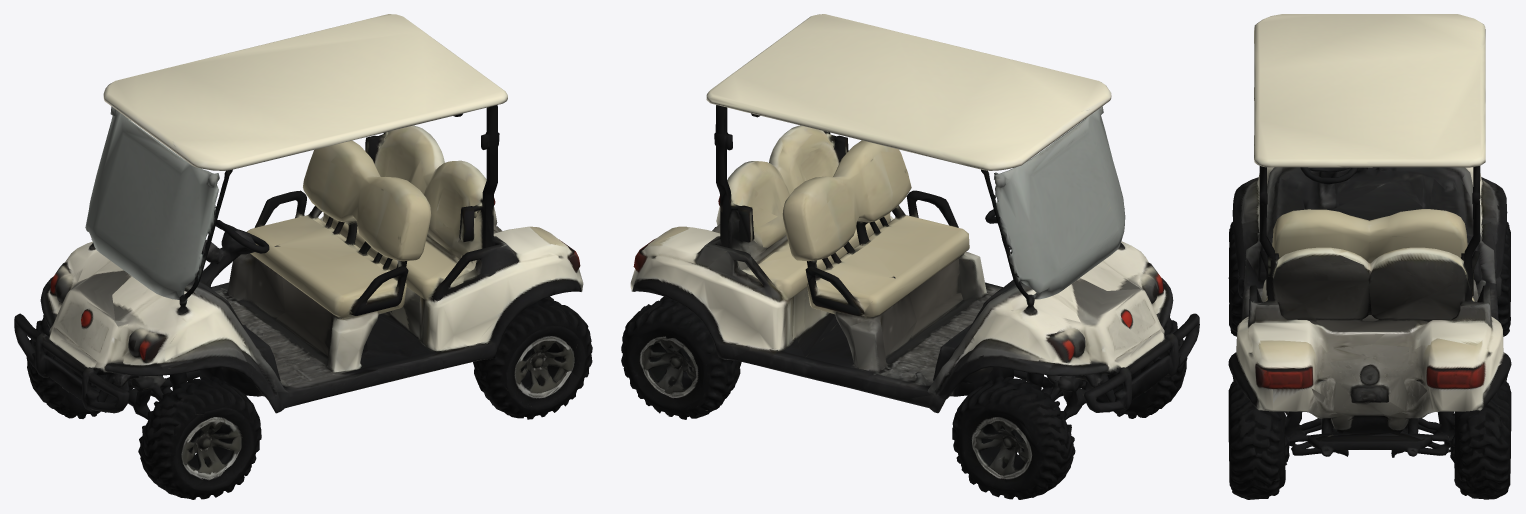
File: SM_MeshyBuggy_Review.fbx
3 renders of one model, left to right at view 1: azimuth 30°, elevation 25°; view 2: azimuth 150°, elevation 25°; view 3: azimuth 270°, elevation 25°, orthographic.
Parts seen in each view (by area): view 1: SM_MeshyBuggy_Review; view 2: SM_MeshyBuggy_Review; view 3: SM_MeshyBuggy_Review.
Boxes of the visible parts, <box> form: SM_MeshyBuggy_Review: <box>14,14,592,499</box>; SM_MeshyBuggy_Review: <box>621,14,1199,499</box>; SM_MeshyBuggy_Review: <box>1228,14,1511,499</box>.
Bounding box in the file's own units: 320 × 166 × 210.
Materials: 1 (1 with a texture image).
